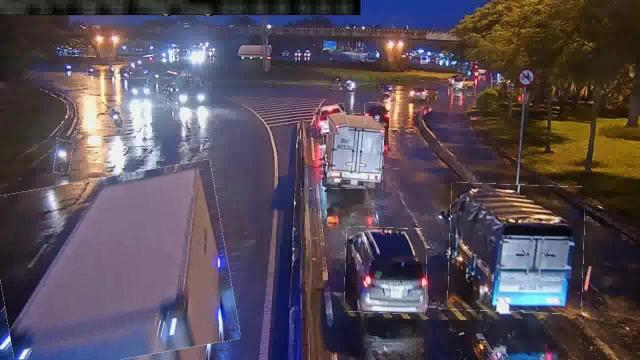Bike: (54, 140, 72, 174), (109, 107, 123, 129)
Car: (345, 227, 427, 313), (314, 105, 348, 135), (365, 103, 387, 125)
Truck: (0, 168, 234, 360), (448, 184, 584, 312), (322, 113, 383, 189)
